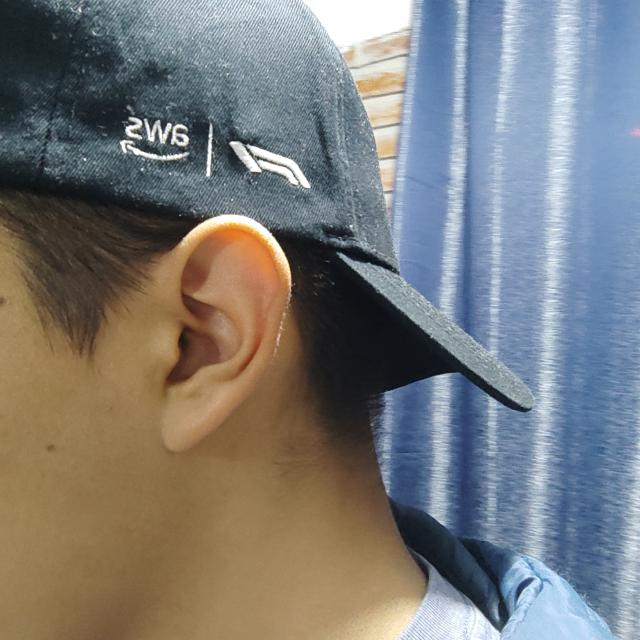ear: (131, 215, 291, 452)
